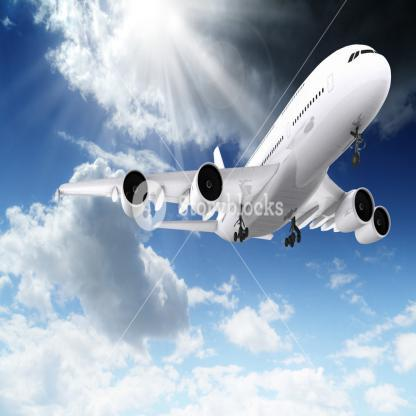CIV_Plane: (54, 38, 396, 255)
